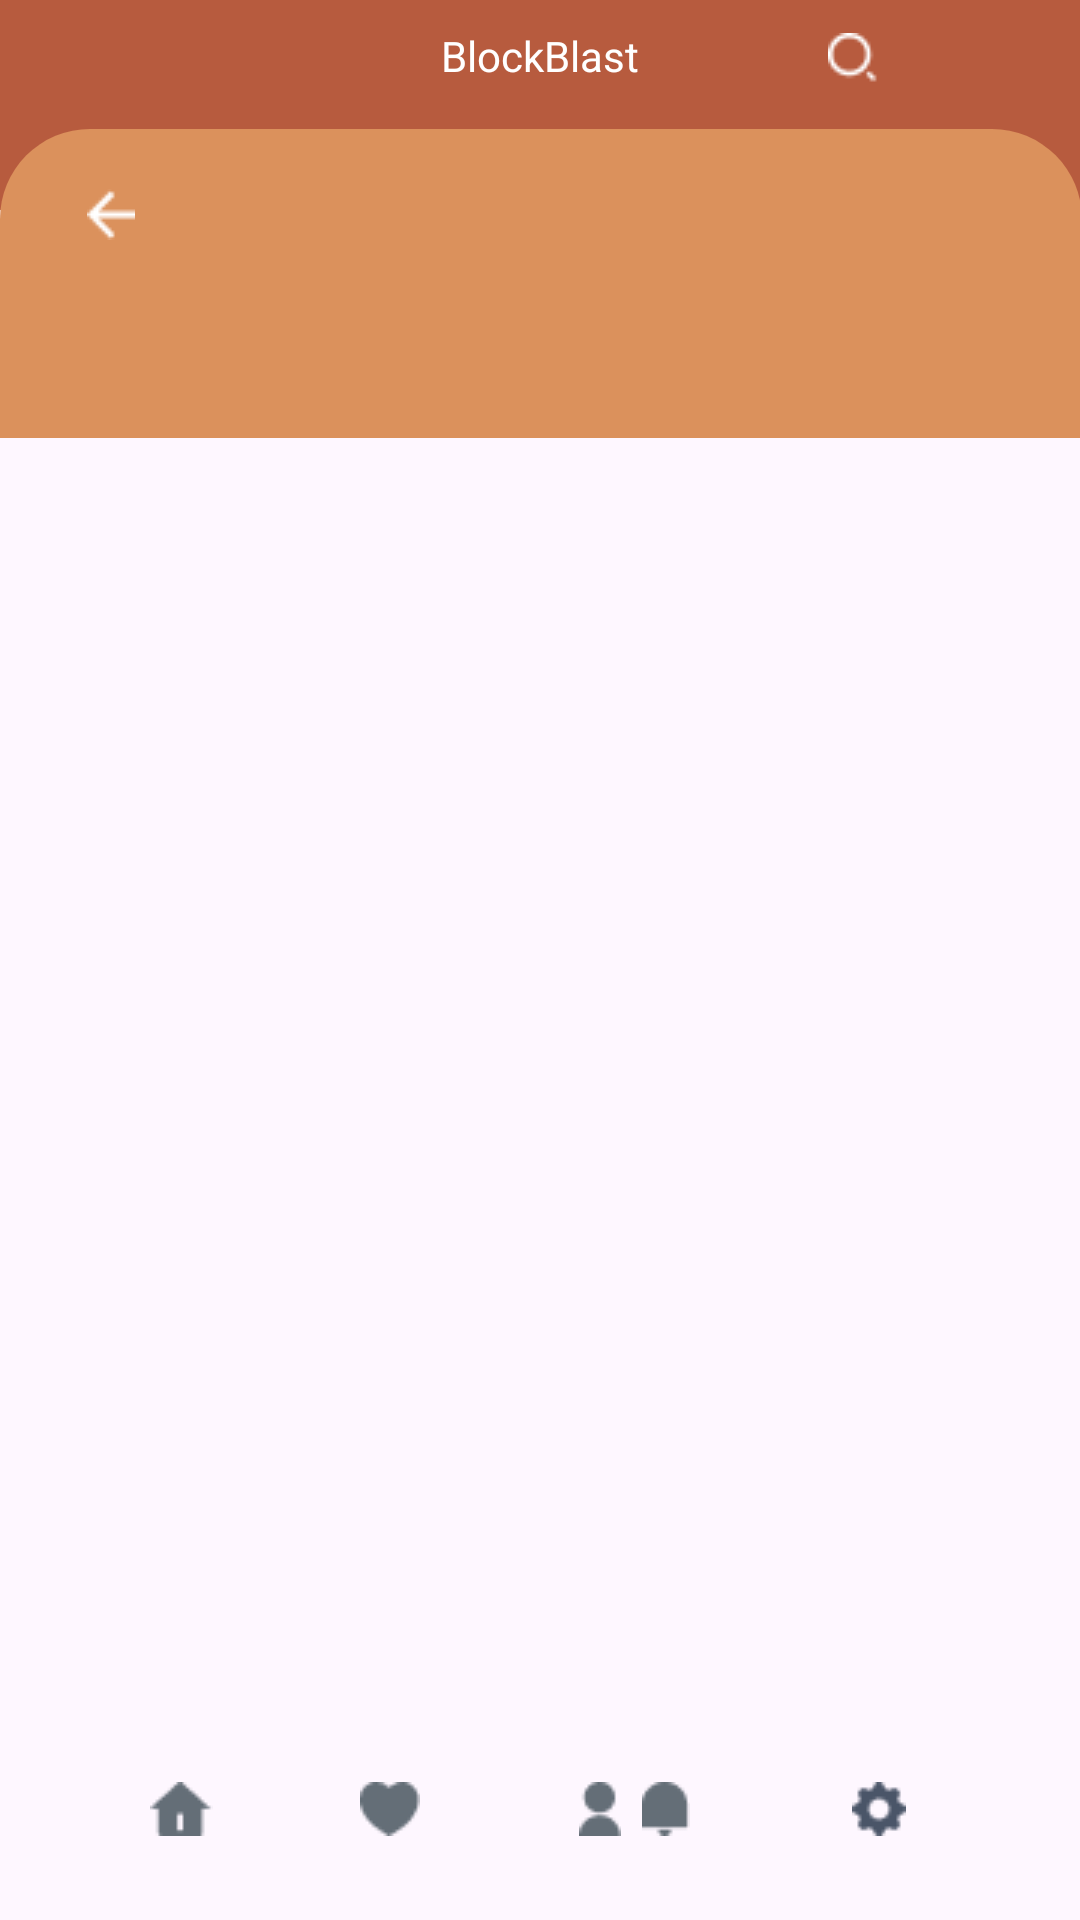

Named icons in this screenshot (1080×1920) and their bounding boxes, [x1,y1,x2,y2]:
back: [87,191,135,240]
heart: [360,1782,420,1836]
home: [150,1782,211,1836]
notification: [642,1782,688,1836]
profile: [579,1782,621,1836]
search: [828,33,877,82]
setting: [852,1782,906,1836]
